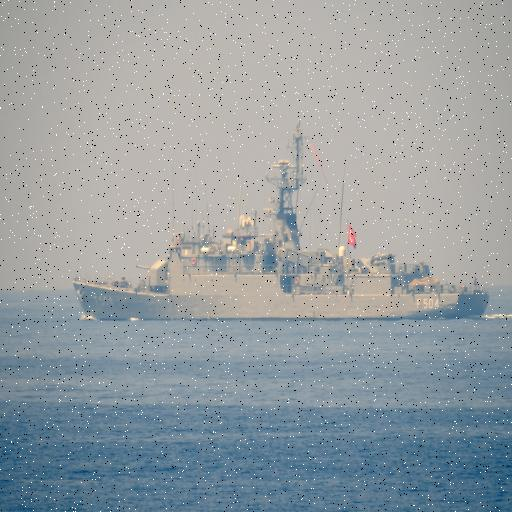Fragata: (71, 114, 493, 327)
